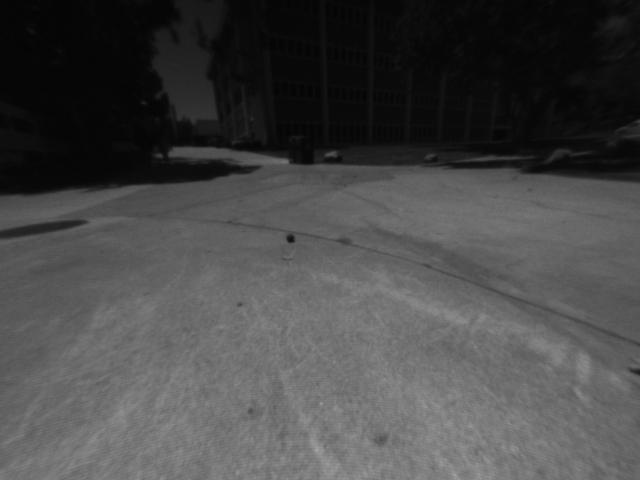dogtoy: (278, 228, 303, 246)
